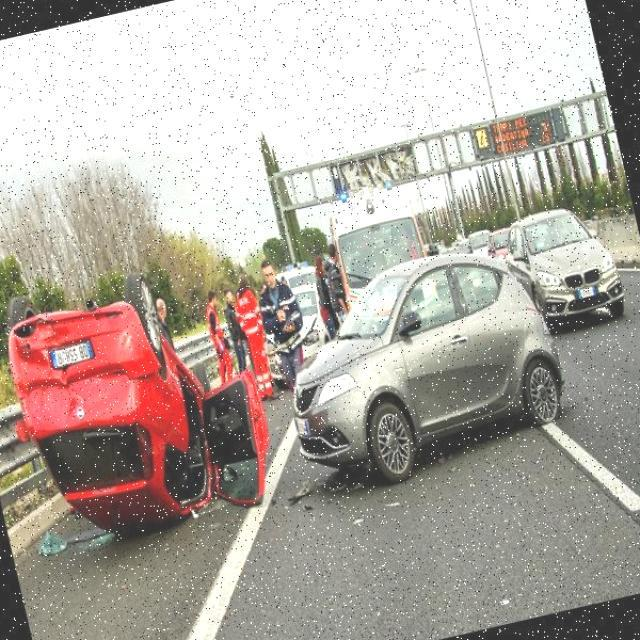accident: (0, 231, 305, 613)
